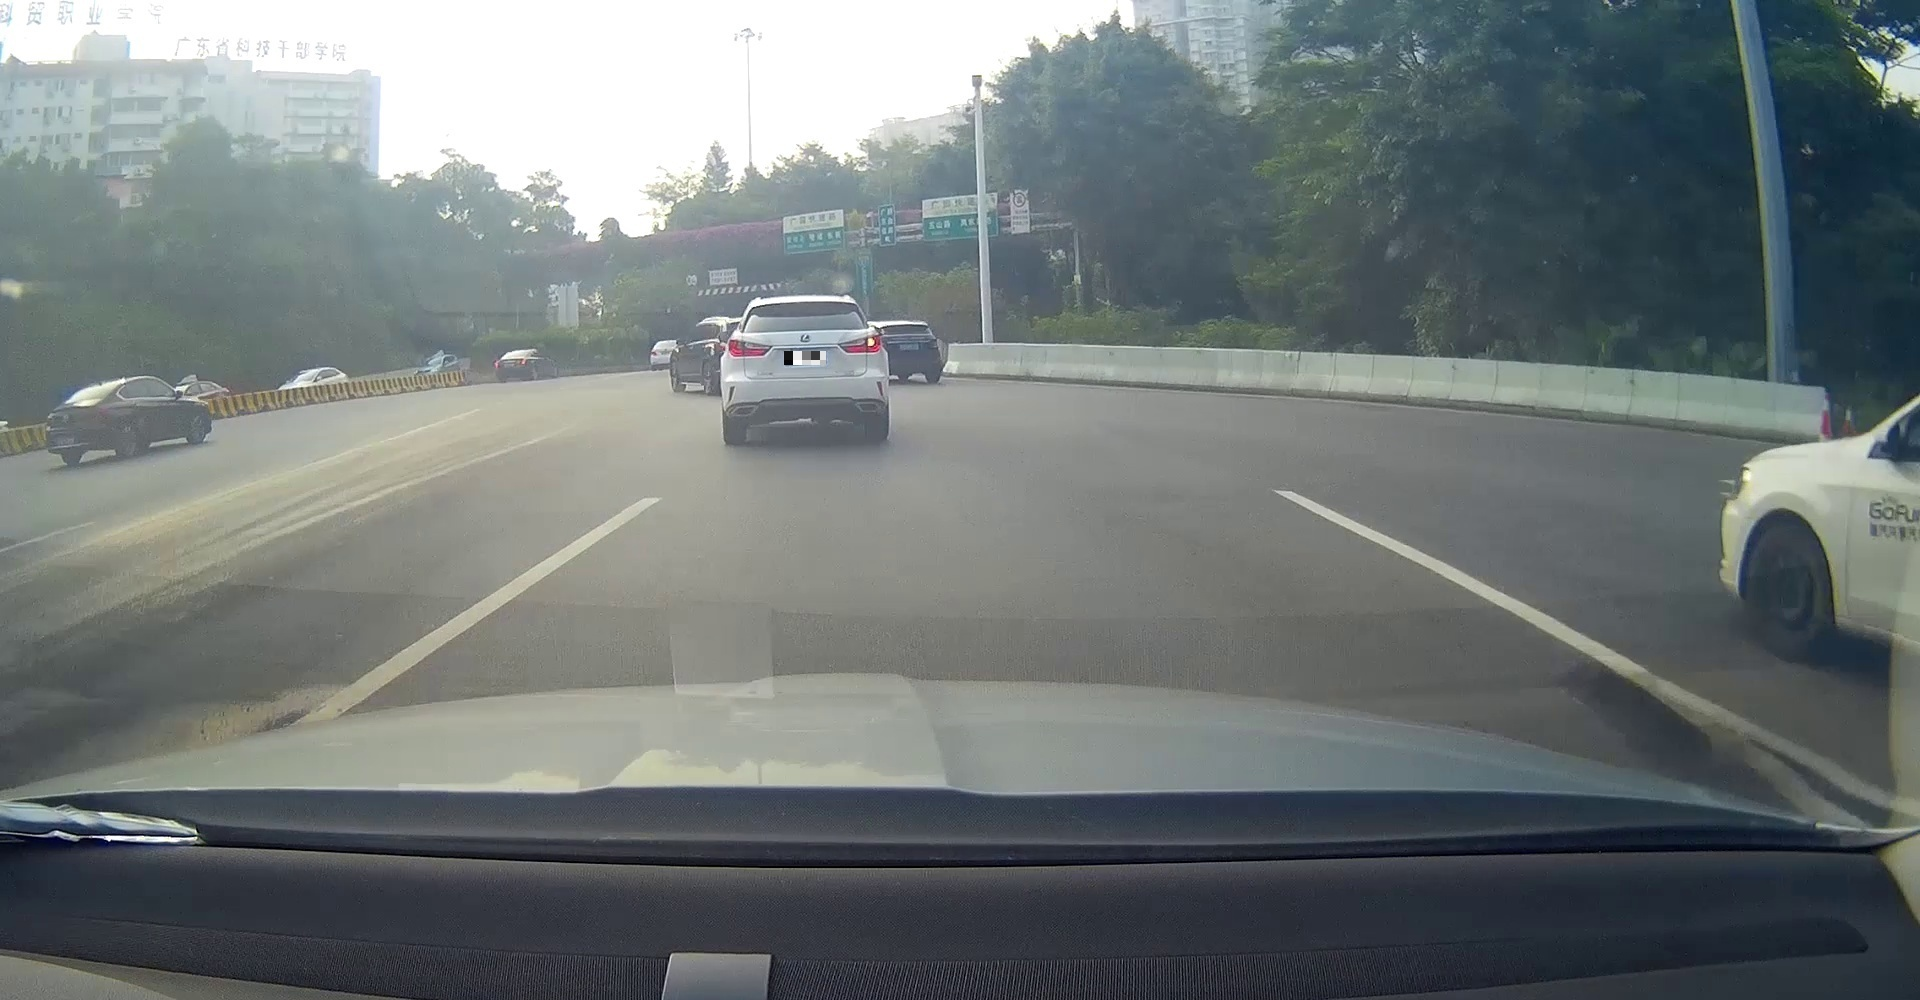L_light: (728, 339, 772, 357)
R_light: (839, 334, 881, 353)
T_light: (792, 303, 810, 307)
day-right: (720, 296, 888, 445)
plate_1: (783, 352, 825, 365)
